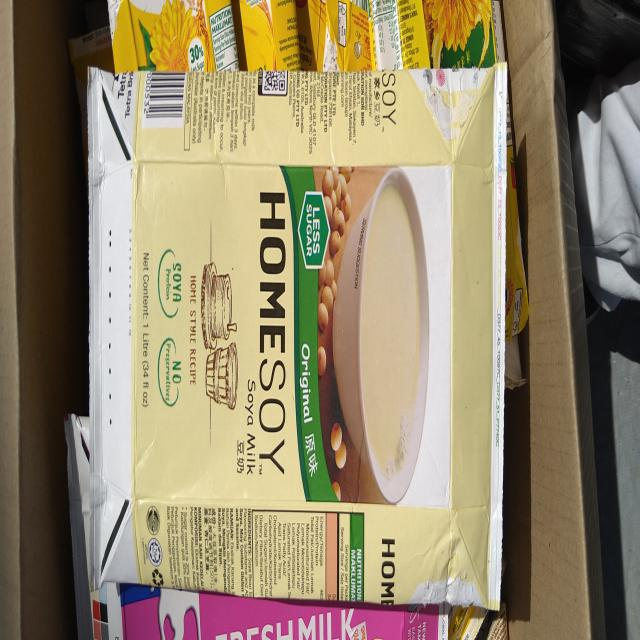cardboard: (81, 44, 512, 612)
